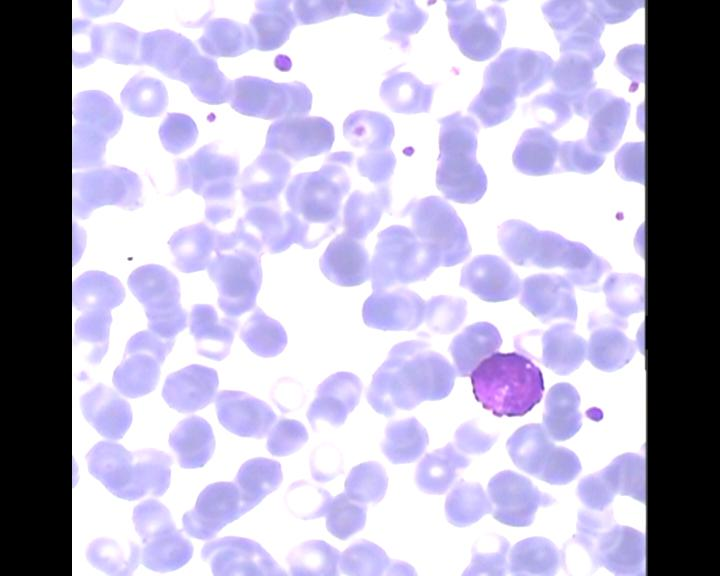baso: (467, 346, 545, 420)
